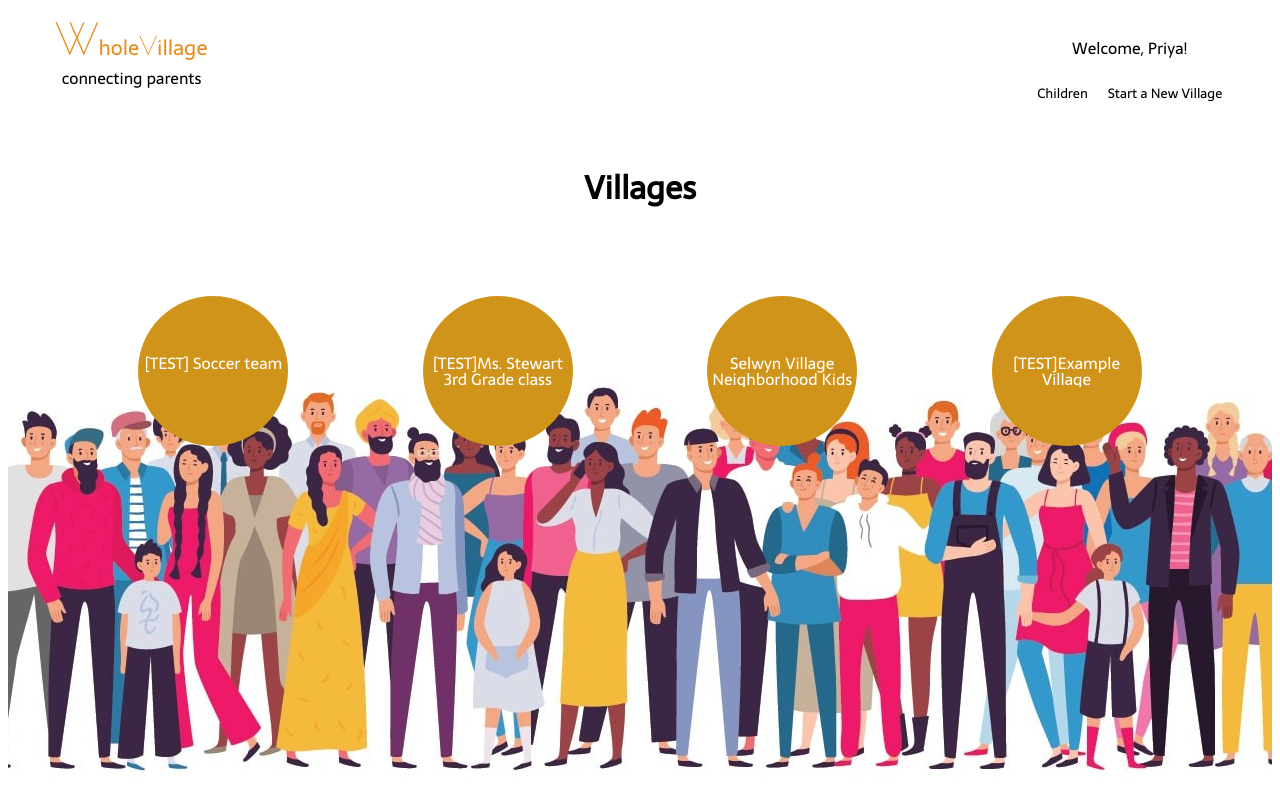
Test: Dashboard User Flows › Should take a user to a village
The width and height of the screenshot is (1280, 800).
Click the element showing "[TEST] Soccer team". click: [213, 371]
box: [138,296,288,446]
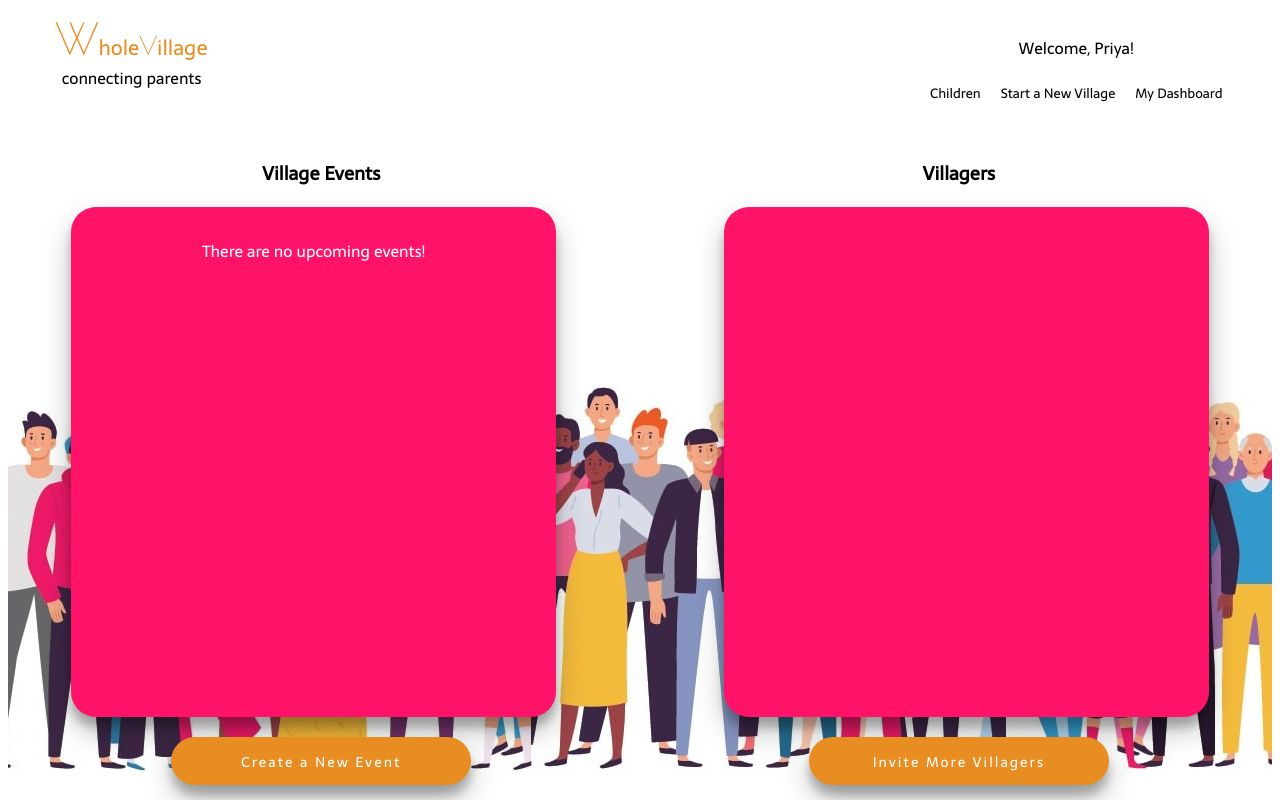
Expected: the heading "Village Events" is shown, [262,158,380,189]
